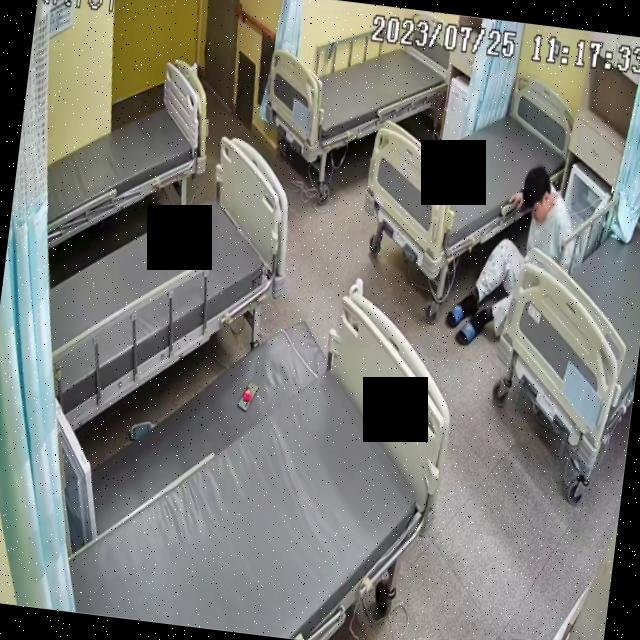bed: (61, 271, 454, 640), (28, 121, 296, 442), (489, 165, 640, 472), (358, 67, 574, 270), (36, 45, 217, 260), (264, 10, 453, 175)
fall: (444, 150, 584, 358)
patient: (446, 147, 586, 356)
